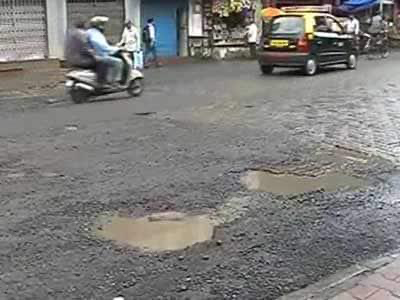pothole: (89, 201, 223, 250), (230, 165, 386, 195)
